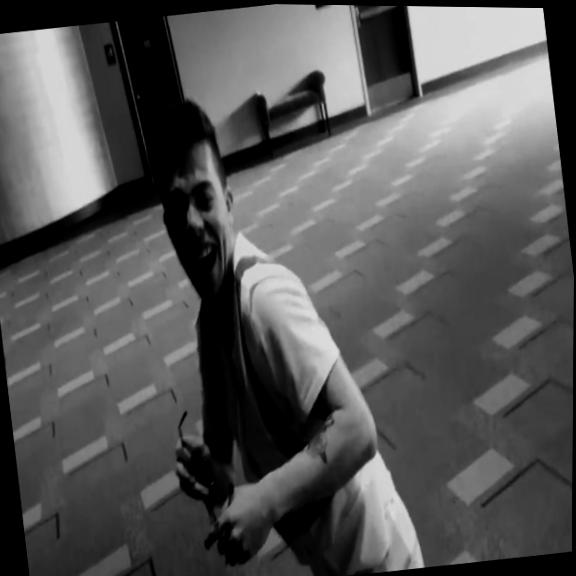safety_vest: (179, 203, 407, 576)
